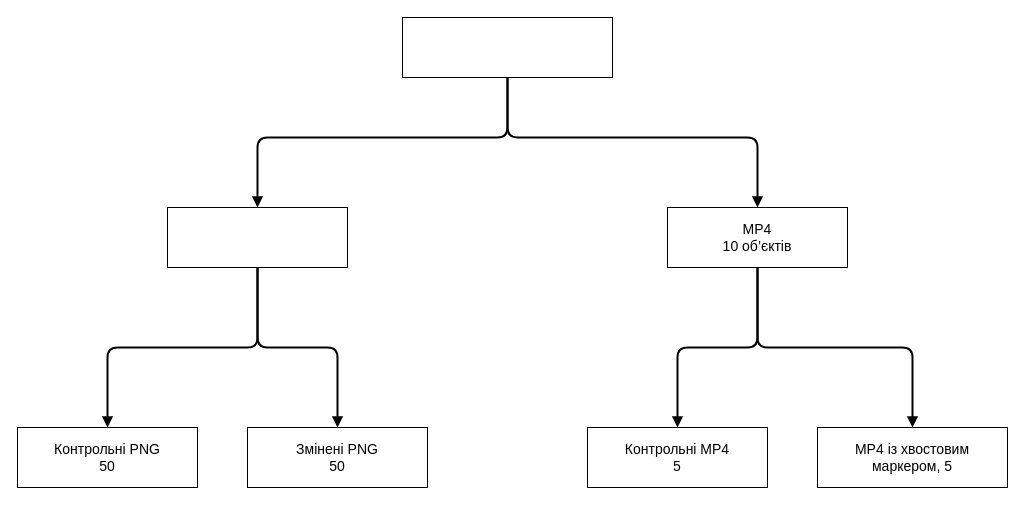
Some shapes in this 1025 by 505 pixel diagram are drawn without their labels. The shapes that lost their labels are listed below. From the top down, each one's box as (x1, y1, x2, y2) in pixels, then its label:
(402, 16, 612, 78): Контрольний набір 110 об’єктів
(166, 206, 348, 268): PNG 100 об’єктів
